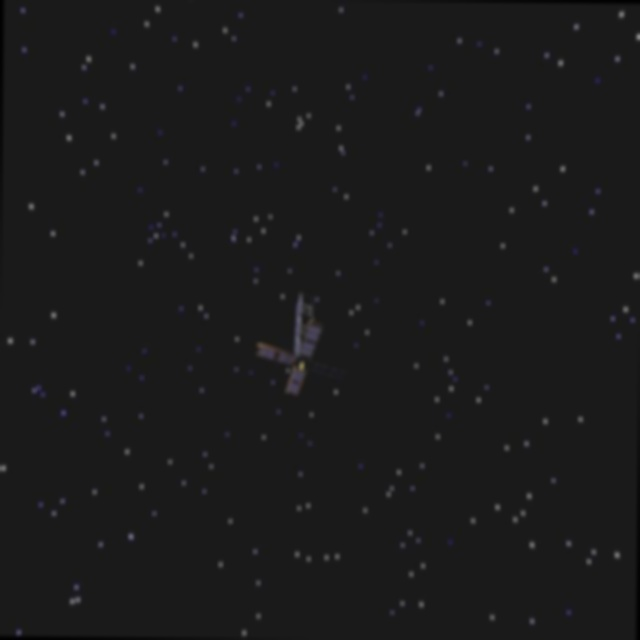medium_debris: (251, 291, 329, 403)
